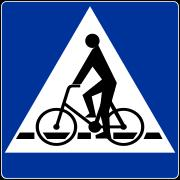Cycle Crossing: (15, 9, 175, 171)
